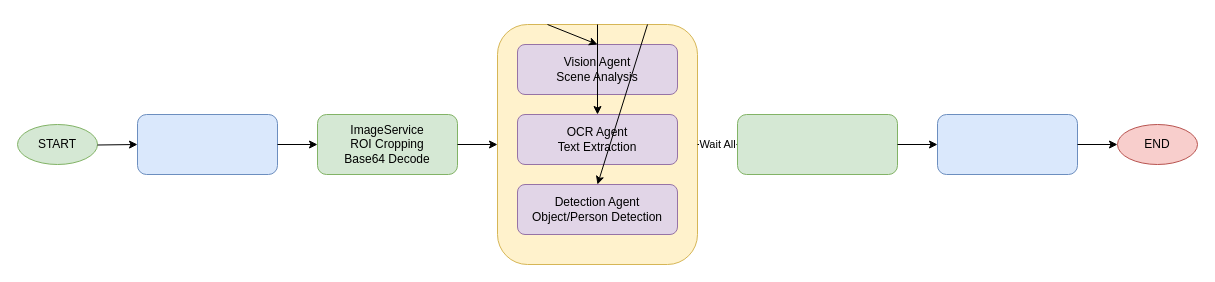
Some shapes in this 1215 by 282 pixel diagram are drawn without their labels. Here are the shapes that lost their labels. From the top down, the centre of each, then its label:
At (x=207, y=144): "Image Input (Base64 + ROI)".
At (x=817, y=144): "Combine Results JSON + Text Report".
At (x=1007, y=144): "Final Report (JSON + Text)".
